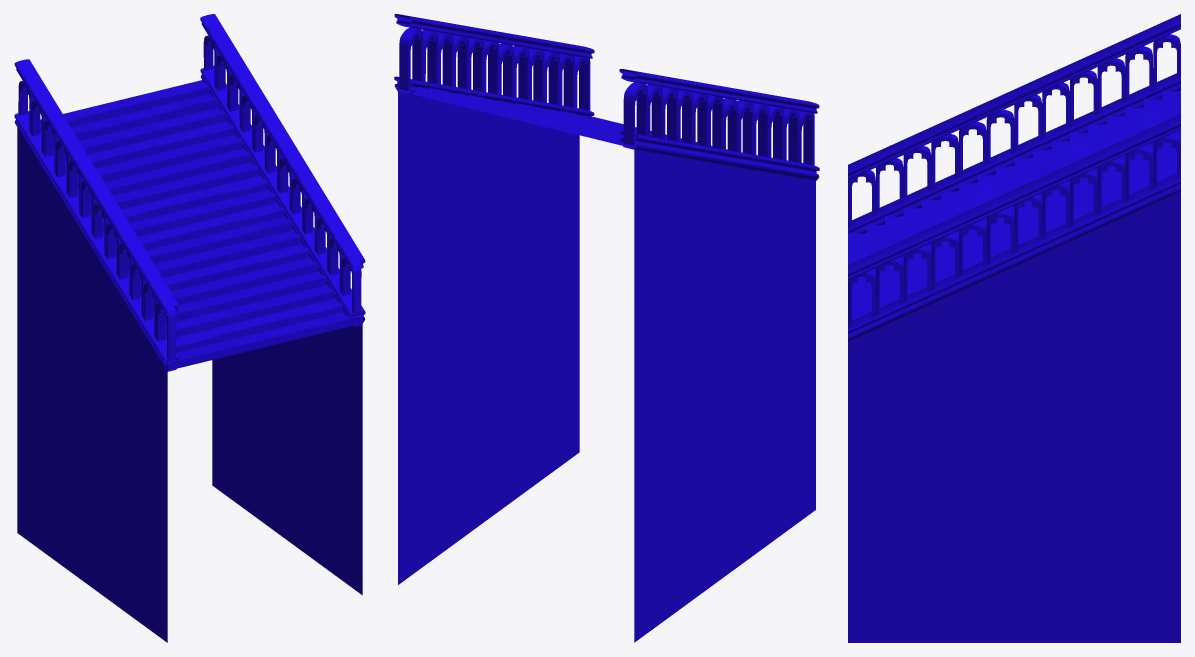
File: SM_Garden_Stairs.fbx
3 views of the same model, side by side, from view 1: azimuth 30°, elevation 25°; view 2: azimuth 150°, elevation 25°; view 3: azimuth 270°, elevation 25° (orthographic). The views are drawn at different scales.
Parts seen in each view (by area): view 1: SM_Garden_Stairs; view 2: SM_Garden_Stairs; view 3: SM_Garden_Stairs.
Boxes of the visible parts, box(x1,y1,x2,y2) form: SM_Garden_Stairs: box(14, 14, 365, 642); SM_Garden_Stairs: box(394, 14, 819, 642); SM_Garden_Stairs: box(848, 14, 1180, 642).
Bounding box in the file's own units: 3.1 × 6.94 × 4.
